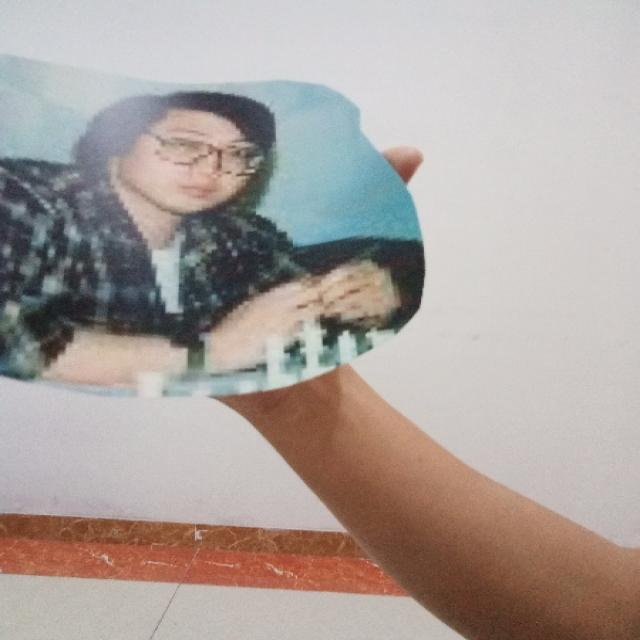photo: (0, 39, 444, 413)
